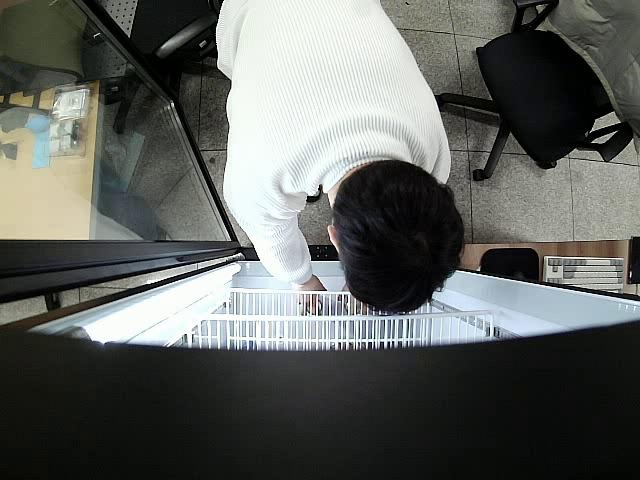00_hand: (293, 275, 327, 314)
